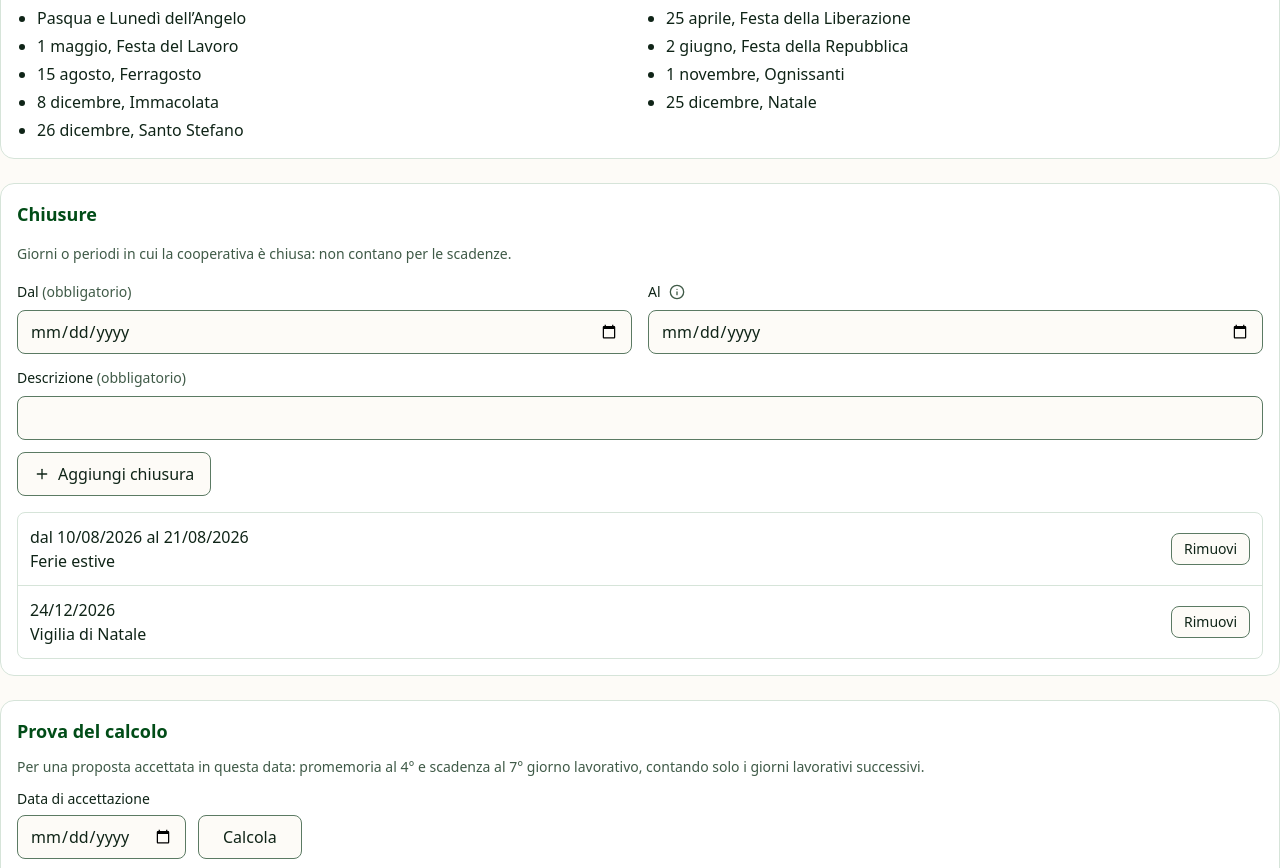
Test case: <CalendarPage> › senza data e descrizione non invia
(page scrolled)
Click the button "Aggiungi chiusura".
click(114, 474)  # box [17,452,211,496]
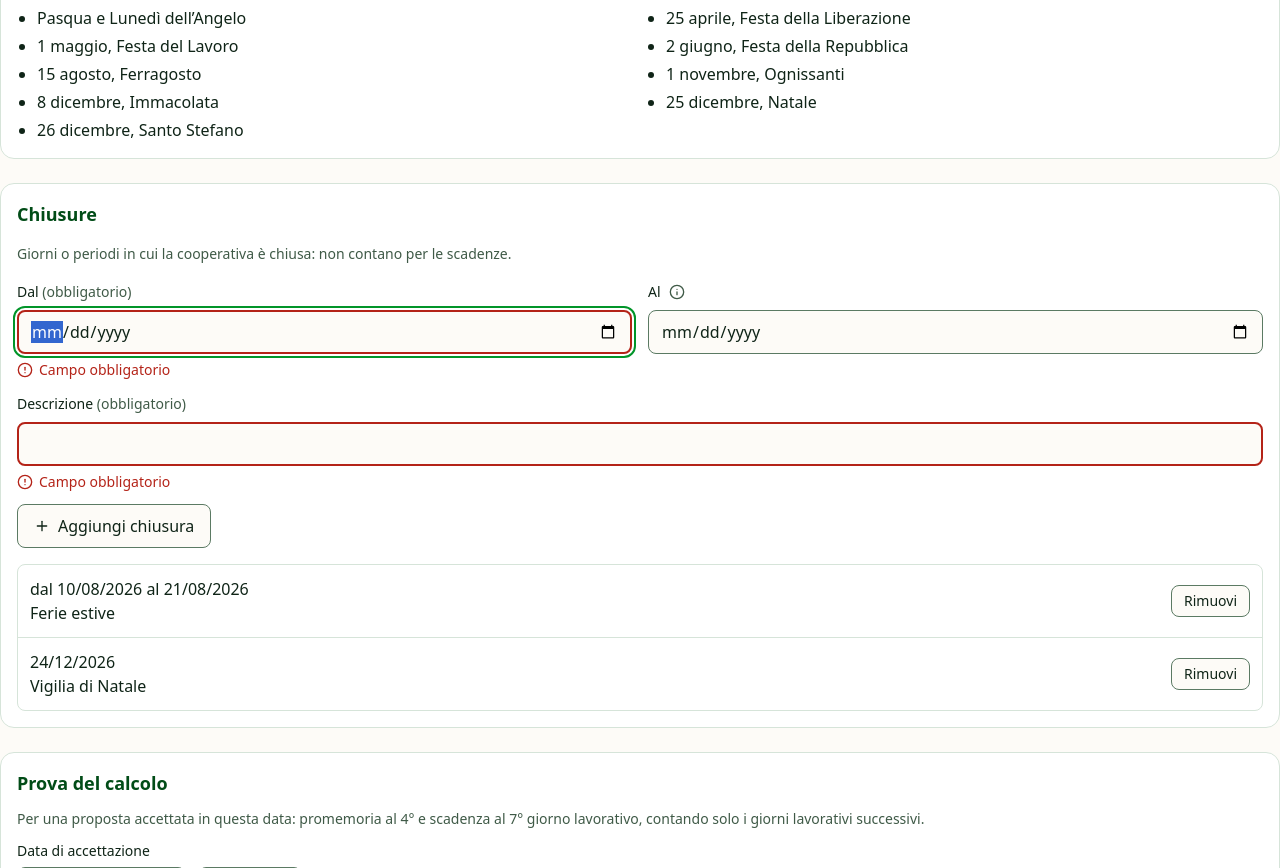
Expected: the text "Campo obbligatorio" is shown 2 times, [17,360,170,379]; [17,472,170,491]
